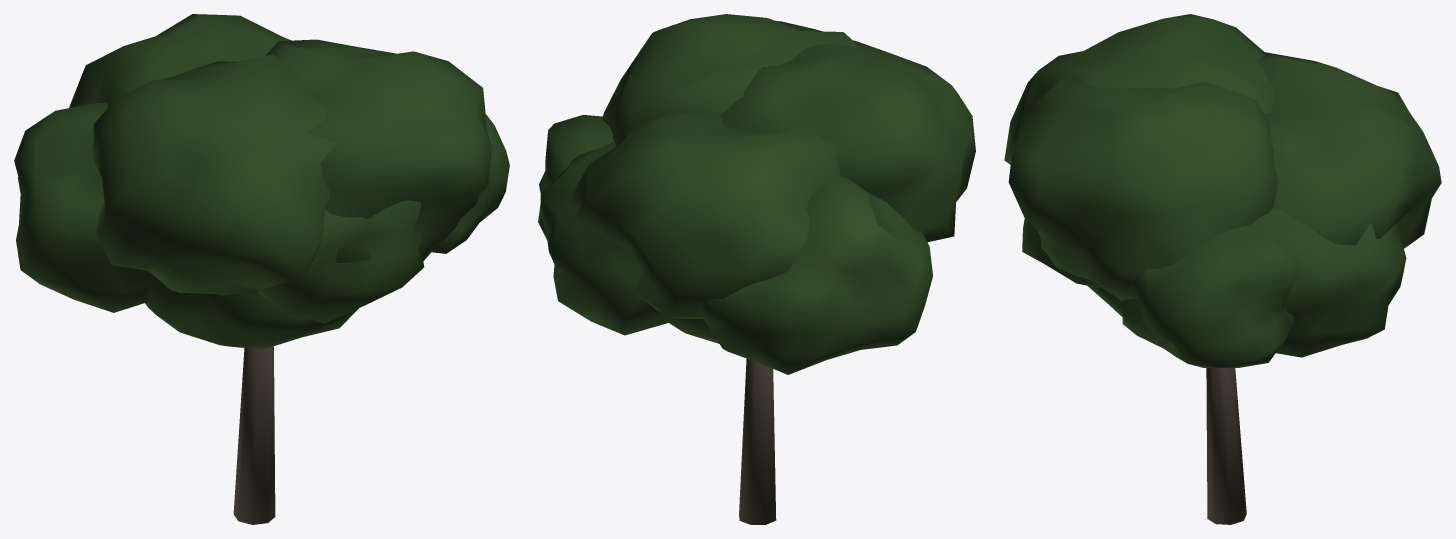
The model's file is tree_oak_01.glb.
The picture shows the model from 3 angles, left to right: view 1: azimuth 30°, elevation 25°; view 2: azimuth 150°, elevation 25°; view 3: azimuth 270°, elevation 25°; orthographic projection. The views are drawn at different scales.
Parts seen in each view (by area): view 1: tree_oak_01; view 2: tree_oak_01; view 3: tree_oak_01.
Boxes of the visible parts, box(x1,y1,x2,y2) form: tree_oak_01: box(14, 14, 509, 524); tree_oak_01: box(538, 14, 975, 524); tree_oak_01: box(1004, 14, 1441, 524).
Size of the model in its own units: 9.82 by 10.15 by 8.92.
